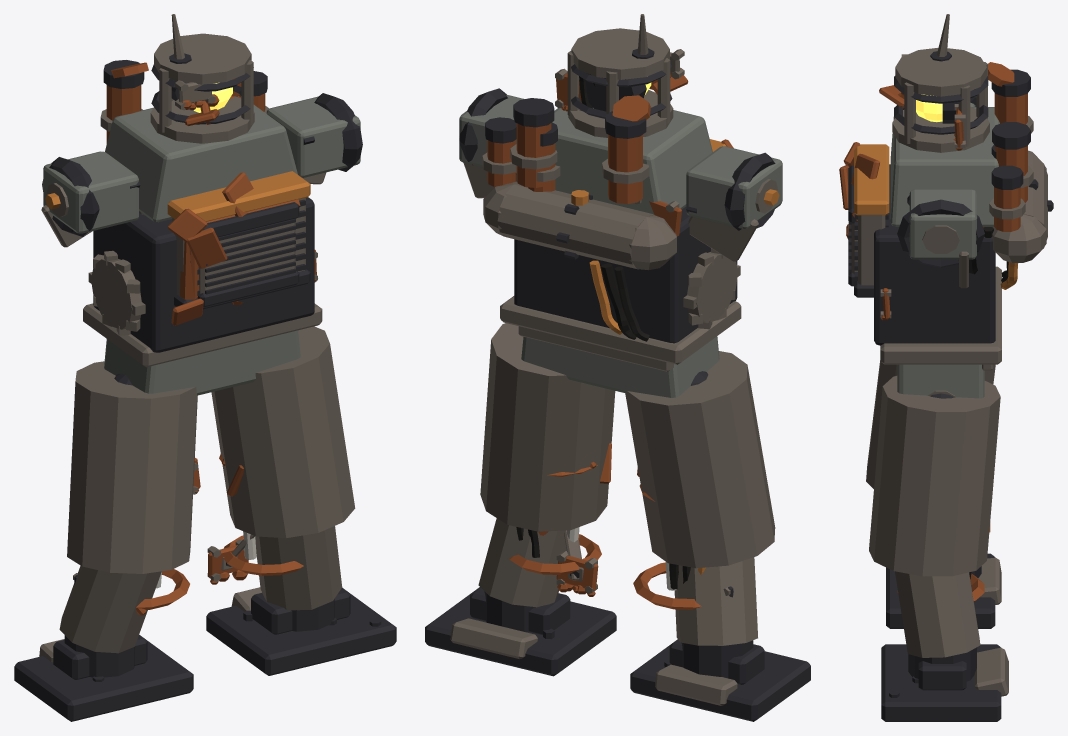
Rendered from ch_scrapper.glb.
3 views of the same model, side by side, from view 1: azimuth 30°, elevation 25°; view 2: azimuth 150°, elevation 25°; view 3: azimuth 270°, elevation 25° (orthographic). The views are drawn at different scales.
Visible parts, largest first — view 1: ch_scrapper, limb_leg_l, limb_leg_r; view 2: ch_scrapper, limb_leg_l, limb_leg_r; view 3: ch_scrapper, limb_leg_r, limb_leg_l.
Part boxes in pixels (x1=…): ch_scrapper: x1=41, y1=14, x2=362, y2=395; limb_leg_l: x1=14, y1=361, x2=200, y2=721; limb_leg_r: x1=206, y1=326, x2=396, y2=675; ch_scrapper: x1=459, y1=14, x2=782, y2=397; limb_leg_l: x1=625, y1=351, x2=810, y2=721; limb_leg_r: x1=425, y1=323, x2=616, y2=676; ch_scrapper: x1=839, y1=14, x2=1053, y2=398; limb_leg_r: x1=869, y1=376, x2=1008, y2=721; limb_leg_l: x1=866, y1=360, x2=1001, y2=628.
Size of the model in its own units: 0.408 by 0.7793 by 0.2439.
